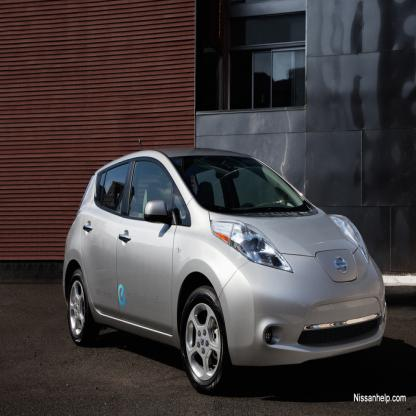Vehicle: (63, 147, 388, 398)
